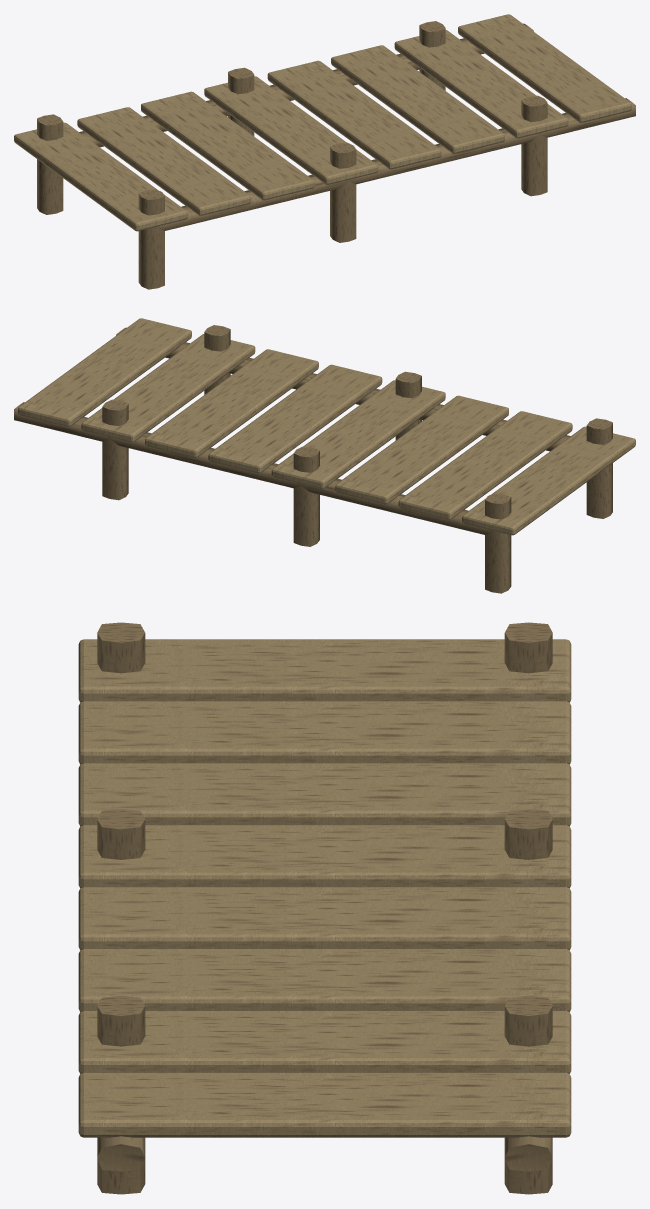
The model's file is dock-1.glb.
3 renders of one model, top to bottom at view 1: azimuth 30°, elevation 25°; view 2: azimuth 150°, elevation 25°; view 3: azimuth 270°, elevation 25°, orthographic. The views are drawn at different scales.
Visible parts, largest first — view 1: Cube.002; view 2: Cube.002; view 3: Cube.002.
Part boxes in pixels (left/top/right/bottom): Cube.002: left=14, top=14, right=635, bottom=289; Cube.002: left=14, top=318, right=635, bottom=593; Cube.002: left=78, top=622, right=571, bottom=1194.
Bounding box in the file's own units: 4.51 × 0.7645 × 1.91.
2 materials, 2 textured.
